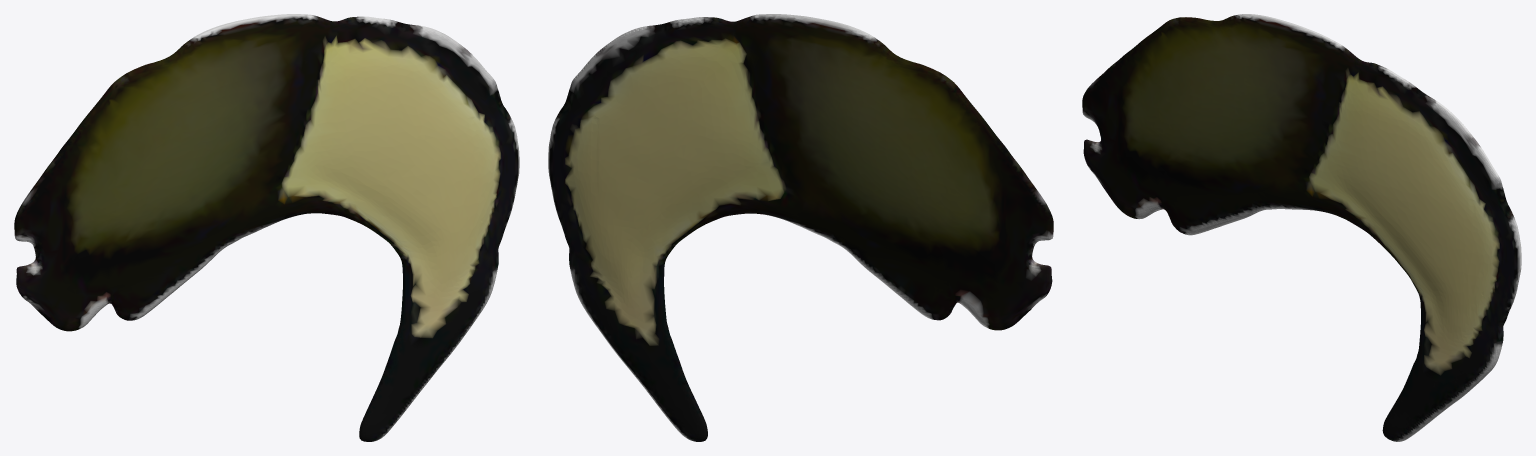
File: dragon_claw.glb
The picture shows the model from 3 angles, left to right: view 1: azimuth 30°, elevation 25°; view 2: azimuth 150°, elevation 25°; view 3: azimuth 330°, elevation 25°; orthographic projection. The views are drawn at different scales.
Parts seen in each view (by area): view 1: geometry_0; view 2: geometry_0; view 3: geometry_0.
Boxes of the visible parts, x1,y1,x2,y2 form: geometry_0: (14, 14, 519, 441); geometry_0: (548, 14, 1053, 441); geometry_0: (1082, 14, 1521, 441).
Size of the model in its own units: 0.6189 by 0.5312 by 0.0391.
